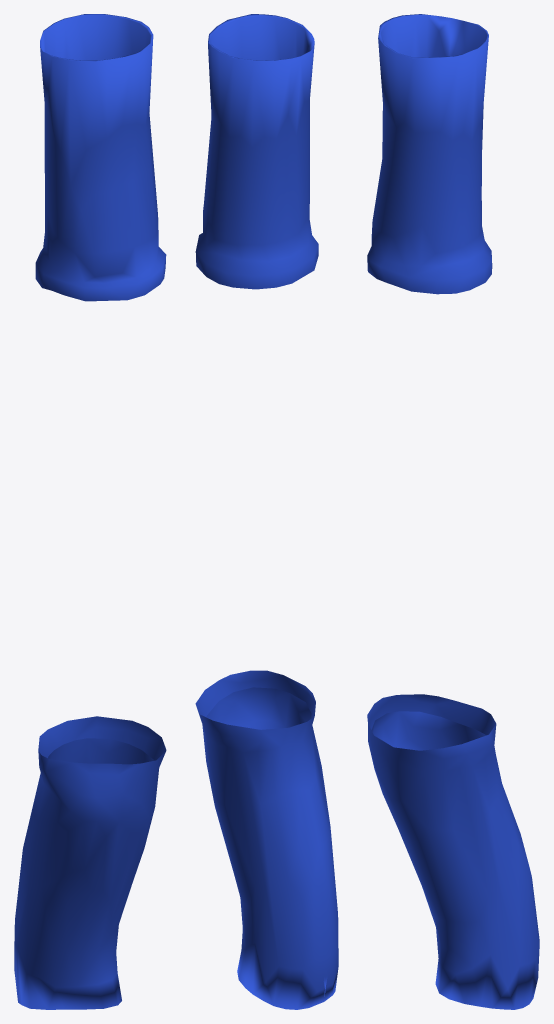
The model's file is venacava.gltf.
3 renders of one model, left to right at view 1: azimuth 30°, elevation 25°; view 2: azimuth 210°, elevation 25°; view 3: azimuth 270°, elevation 25°, orthographic. The views are drawn at different scales.
Visible parts, largest first — view 1: Rightatrium.016; view 2: Rightatrium.016; view 3: Rightatrium.016.
Part boxes in pixels (box(x1,y1,x2,y2)): Rightatrium.016: box(14, 14, 166, 1009); Rightatrium.016: box(195, 14, 338, 1009); Rightatrium.016: box(367, 14, 539, 1009).
Size of the model in its own units: 0.764 by 6.21 by 1.01.
